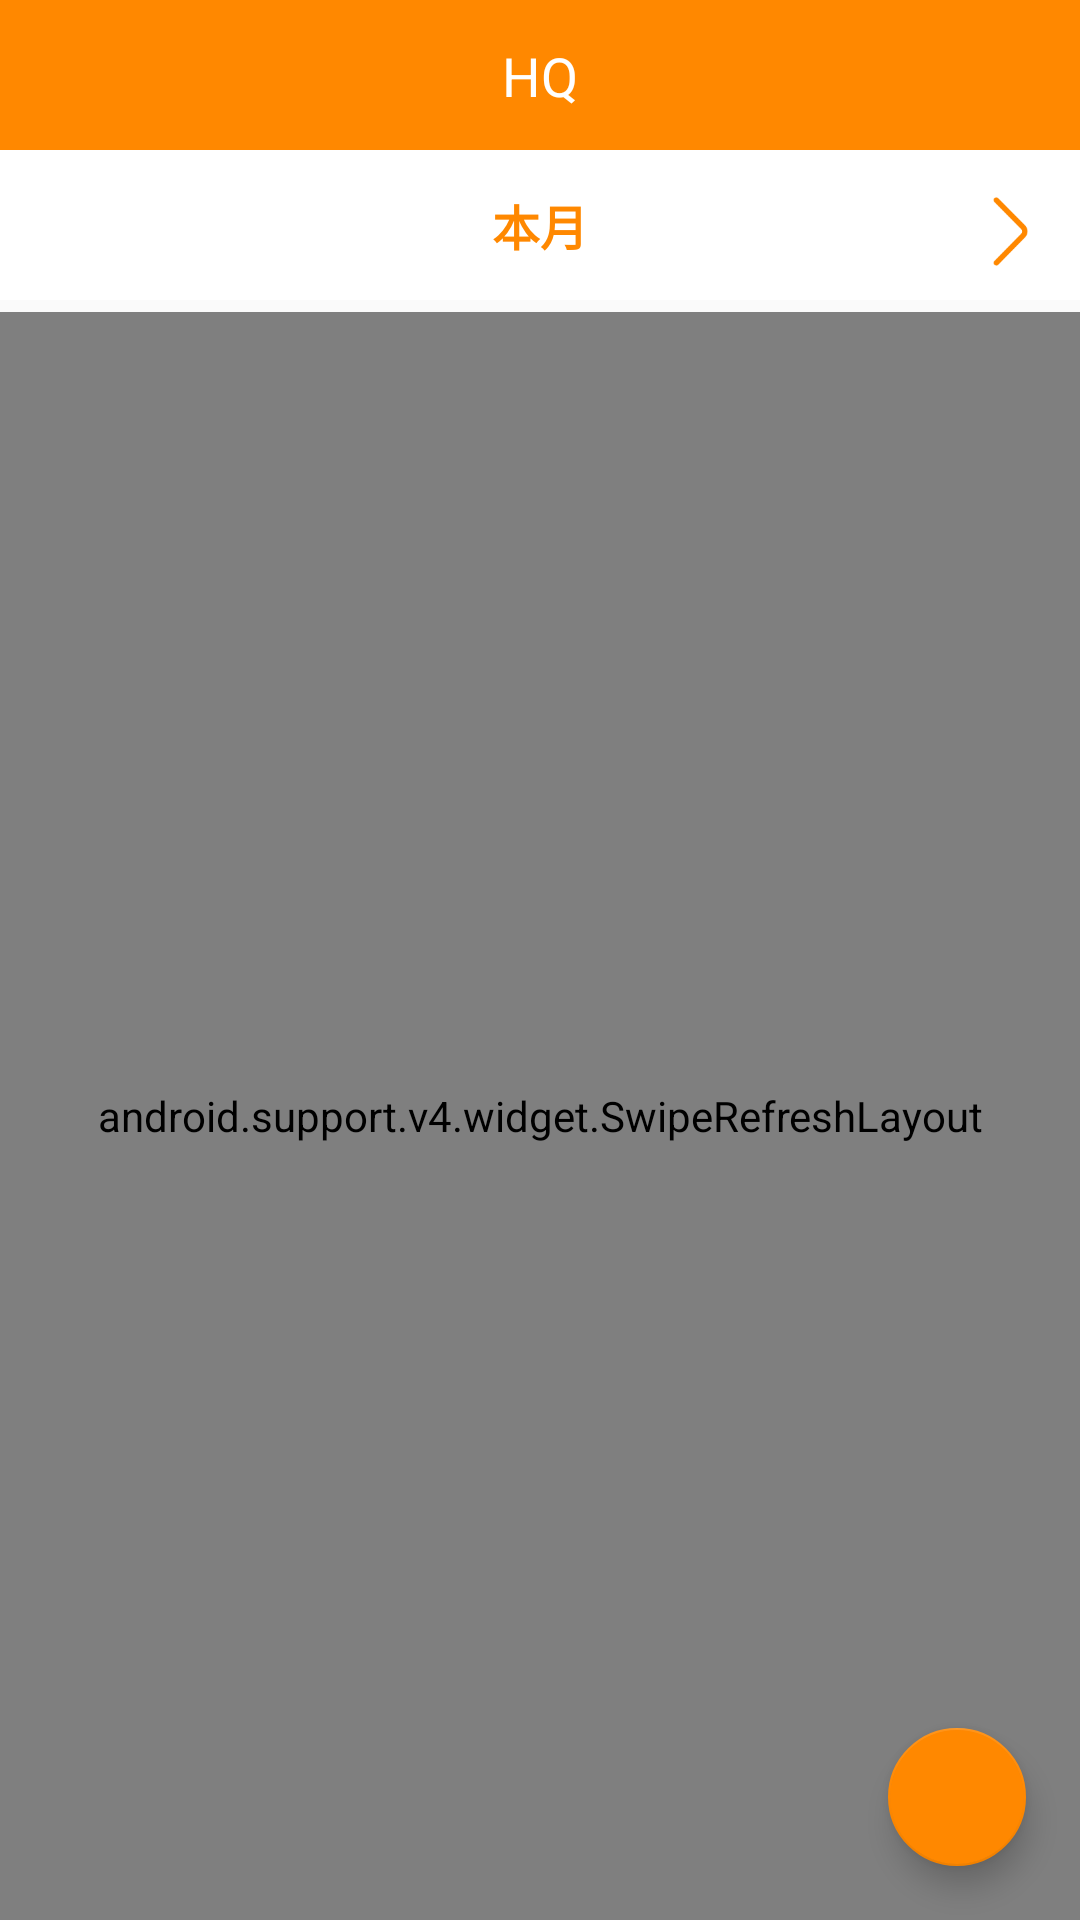

Icons on this 1080 x 1920 Android screen, each with the point to tap as (x=x, y=y):
right main: (x=1010, y=231)
